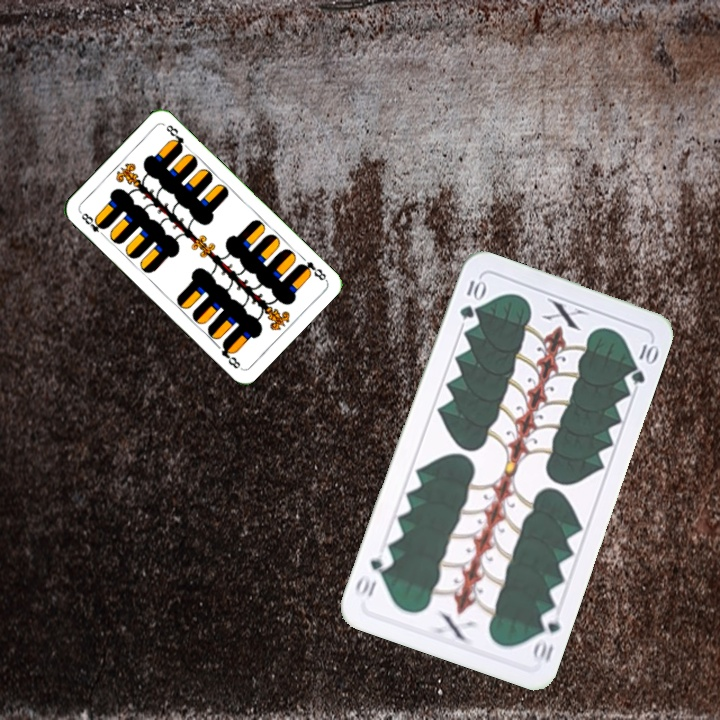E8: (76, 208, 109, 240), (294, 257, 329, 283)
G10: (529, 606, 563, 666), (455, 274, 487, 323)
